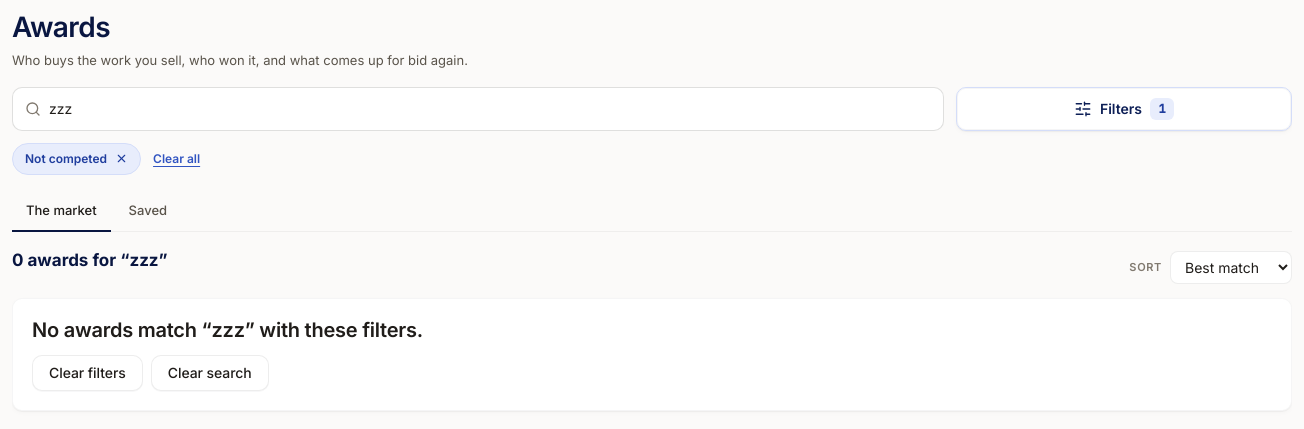
Scenario: Awards empty state › Clear filters clears the filters, like the Clear all chip
The width and height of the screenshot is (1304, 429).
Click the button "Clear filters": [87, 373] box [32,355,143,391]
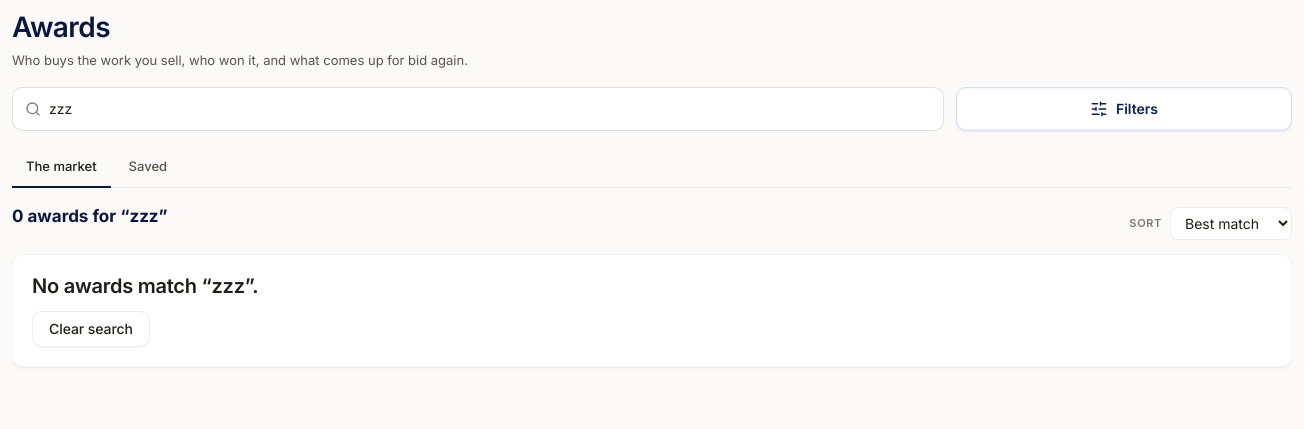
Expected: the text "zzz" in the row of "Sort" is shown, [129,206,159,226]
Expected: the button "Clear all" is gone
